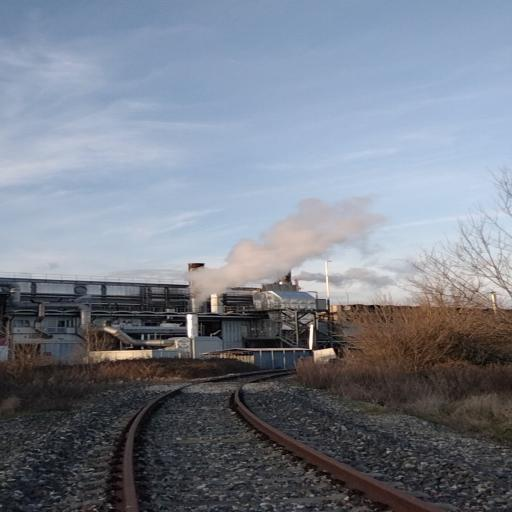leakage: (176, 190, 398, 318), (289, 254, 439, 291)
